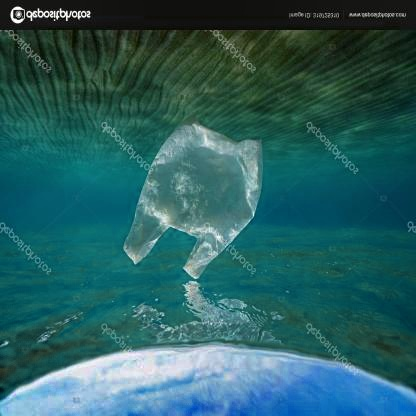pbag: (124, 116, 264, 280)
